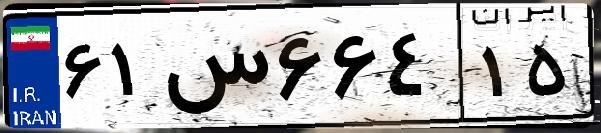1: (475, 38, 525, 113), (110, 28, 158, 98)
4: (385, 28, 445, 110)
5: (525, 38, 570, 115)
6: (270, 28, 330, 110), (330, 28, 385, 110), (57, 26, 110, 100)
س: (158, 20, 270, 120)
